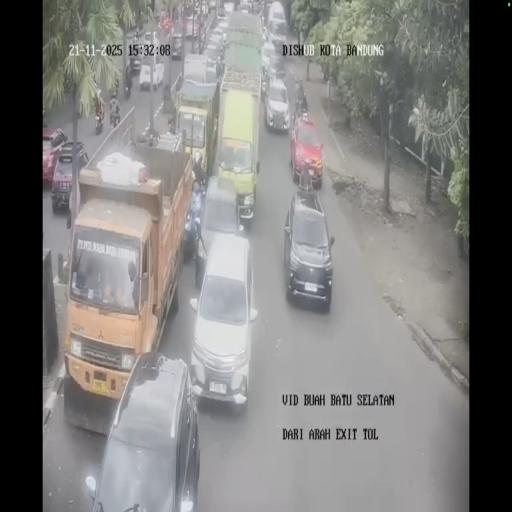car: (284, 184, 334, 311), (195, 174, 245, 280), (50, 142, 90, 212), (290, 113, 324, 189), (264, 76, 290, 134), (138, 59, 164, 90), (260, 40, 276, 88), (203, 42, 223, 76), (128, 35, 143, 72), (182, 12, 201, 40), (269, 30, 287, 56), (142, 30, 160, 54), (215, 16, 229, 42), (170, 32, 182, 60), (222, 1, 234, 16), (198, 0, 208, 15), (240, 0, 250, 13), (208, 0, 216, 11)
motorcycle: (294, 75, 306, 111), (95, 108, 104, 134), (110, 108, 120, 128), (167, 22, 173, 48)
truck: (63, 128, 193, 410), (174, 62, 220, 176), (222, 8, 264, 80)
